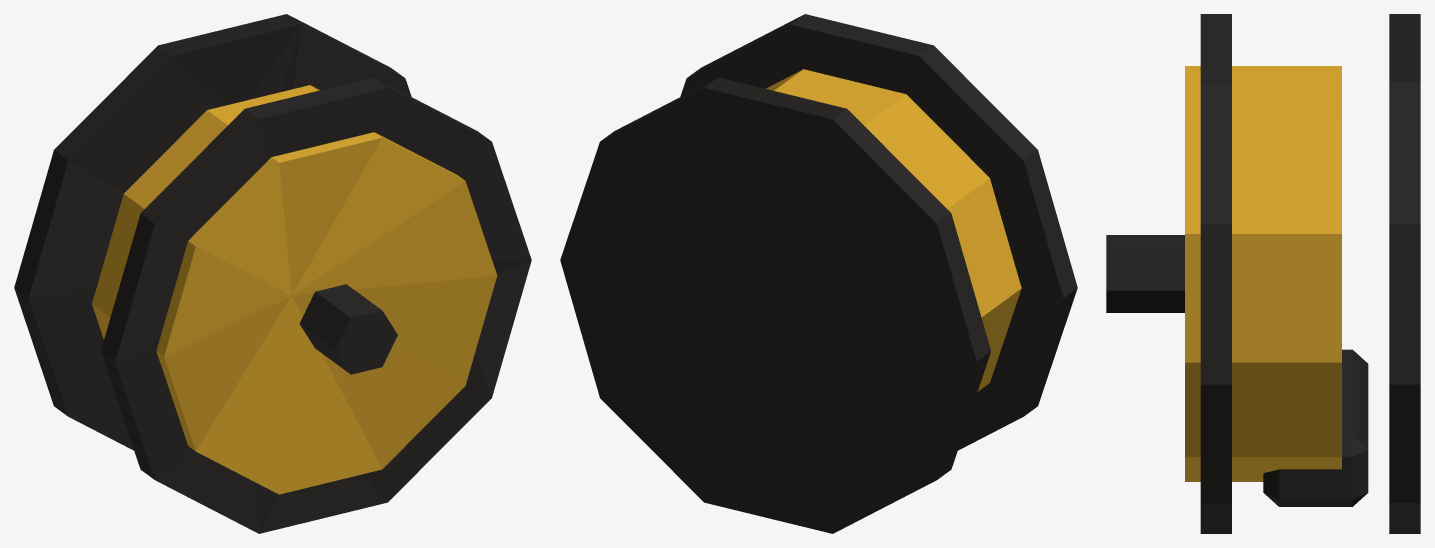
Rendered from power_cable_udlinitel_idle.glb.
The picture shows the model from 3 angles, left to right: view 1: azimuth 30°, elevation 25°; view 2: azimuth 150°, elevation 25°; view 3: azimuth 270°, elevation 25°; orthographic projection. The views are drawn at different scales.
Visible parts, largest first — view 1: power_cable_udlinitel_idle; view 2: power_cable_udlinitel_idle; view 3: power_cable_udlinitel_idle.
Boxes of the visible parts, box(x1,y1,x2,y2) form: power_cable_udlinitel_idle: box(14, 14, 531, 533); power_cable_udlinitel_idle: box(560, 14, 1077, 533); power_cable_udlinitel_idle: box(1106, 14, 1420, 533).
Size of the model in its own units: 0.2 by 0.1902 by 0.12.
1 material, 1 textured.
